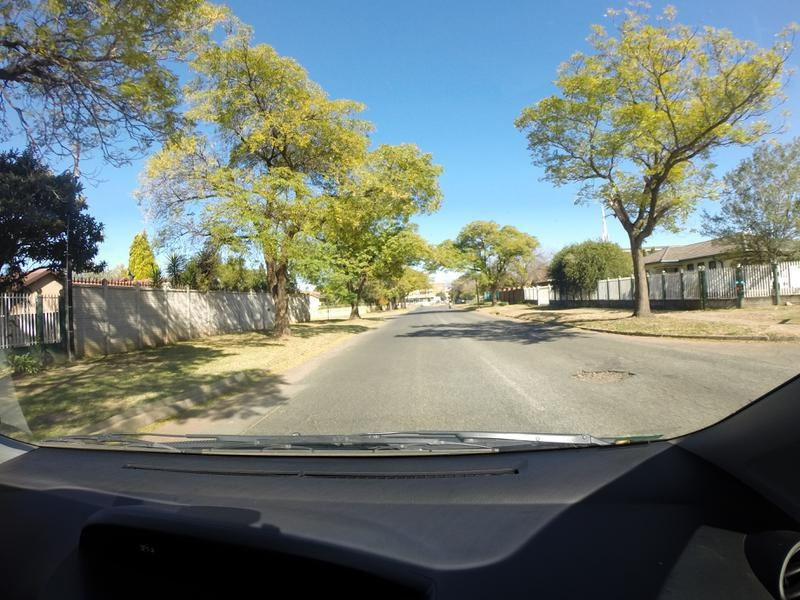pothole: (570, 359, 648, 390)
